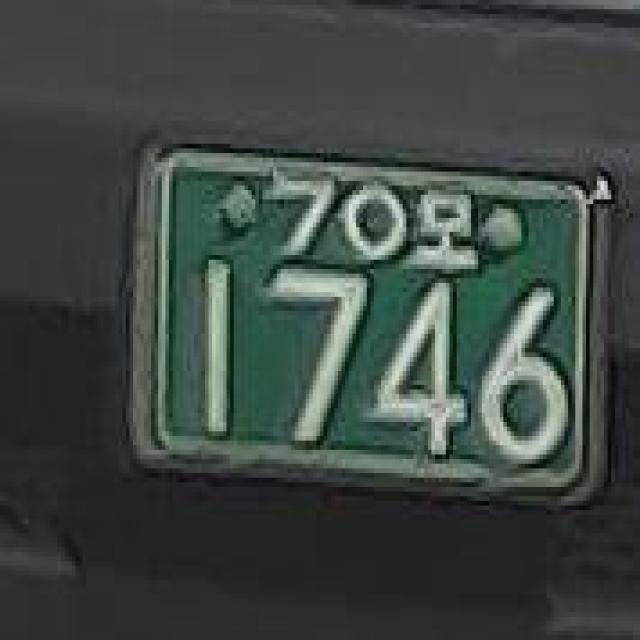illegal_plate: (133, 118, 614, 535)
